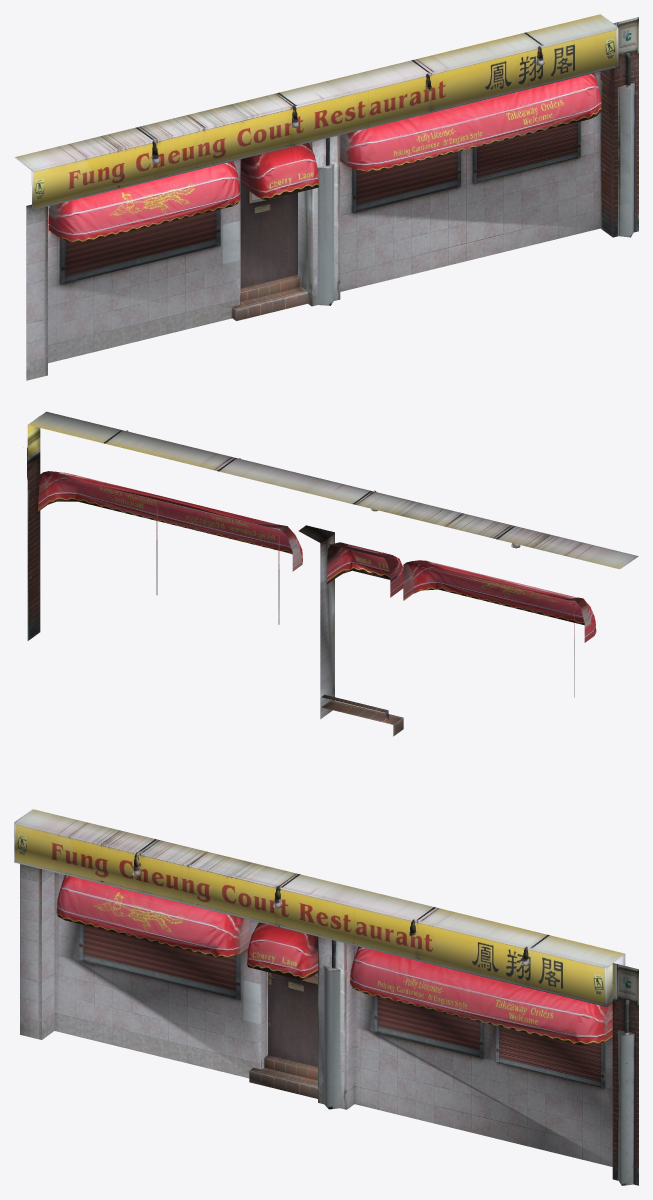
The model's file is 06_shop_front6.glb.
3 renders of one model, top to bottom at view 1: azimuth 30°, elevation 25°; view 2: azimuth 150°, elevation 25°; view 3: azimuth 330°, elevation 25°, orthographic.
Visible parts, largest first — view 1: shop_front6; view 2: shop_front6; view 3: shop_front6.
Part boxes in pixels (x1,y1,x2,y2): shop_front6: [14, 14, 638, 380]; shop_front6: [27, 411, 638, 736]; shop_front6: [14, 809, 638, 1185].
Size of the model in its own units: 5.97 by 2.01 by 0.4777.
Materials: 1 (1 with a texture image).
